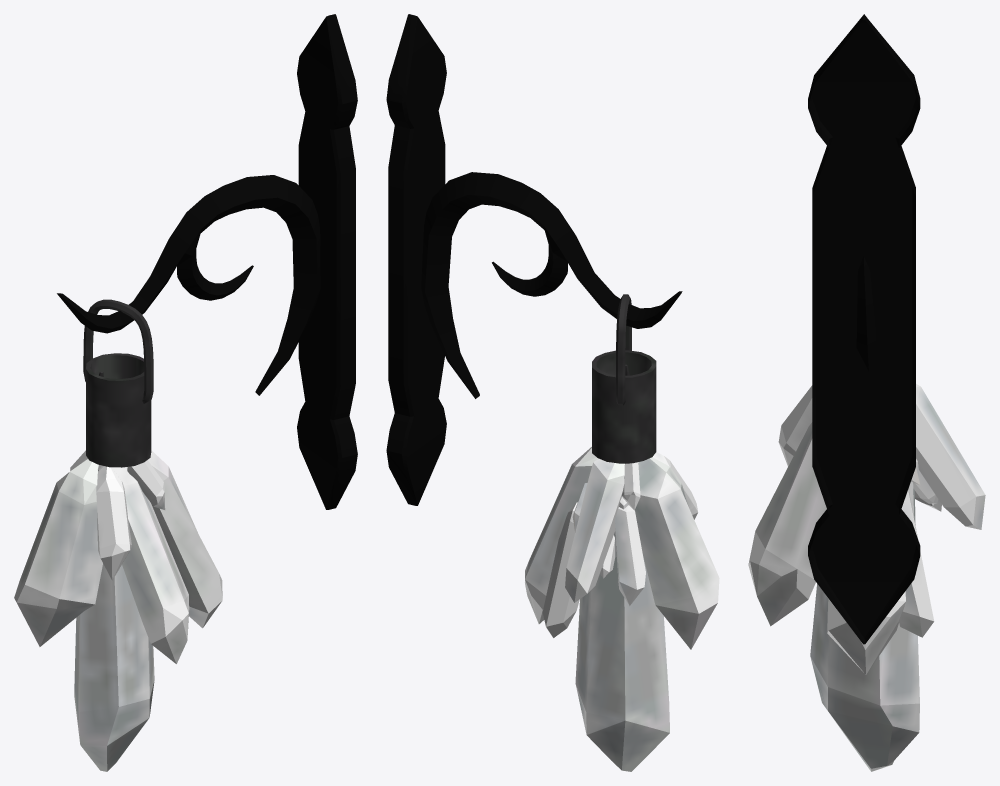
Rendered from CL_Small_Wall_White 1.fbx.
3 renders of one model, left to right at view 1: azimuth 30°, elevation 25°; view 2: azimuth 150°, elevation 25°; view 3: azimuth 270°, elevation 25°, orthographic. The views are drawn at different scales.
Parts seen in each view (by area): view 1: Crystal03, New; view 2: Crystal03, New; view 3: New, Crystal03.
Boxes of the visible parts, box(x1,y1,x2,y2) form: Crystal03: box(14, 299, 222, 771); New: box(57, 14, 357, 509); Crystal03: box(525, 294, 719, 771); New: box(386, 14, 682, 505); New: box(808, 14, 920, 644); Crystal03: box(748, 384, 985, 771).
Size of the model in its own units: 48.6 by 104 by 25.
Materials: 2 (2 with a texture image).
